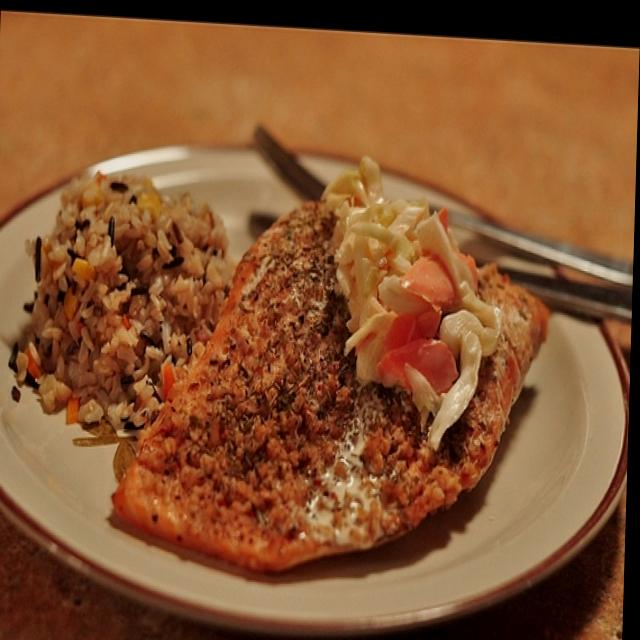熟制海鲜: (0, 59, 639, 640)
